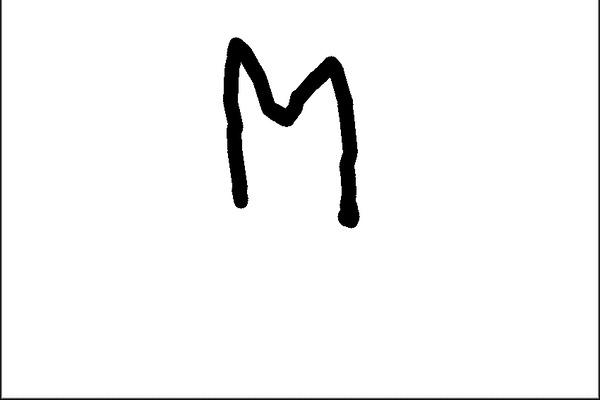M: (216, 33, 360, 229)
